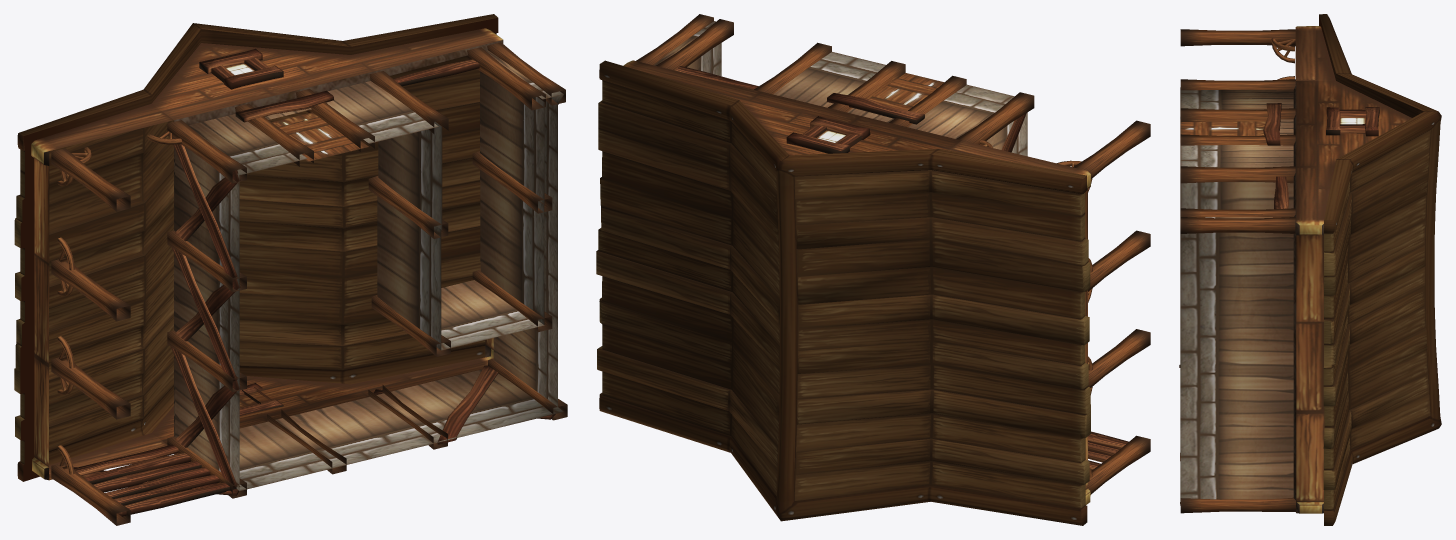
Rendered from Farm.fbx.
The picture shows the model from 3 angles, left to right: view 1: azimuth 30°, elevation 25°; view 2: azimuth 150°, elevation 25°; view 3: azimuth 270°, elevation 25°; orthographic projection. The views are drawn at different scales.
Visible parts, largest first — view 1: Farm_roof_top_01, Farm_01, Farm_02, Farm_Roof_01, Farm_Wall_02, Farm_Roof_03, Farm_Wall_01, Farm_Roof_02, Farm_wood_03, Farm_wood_02, Farm_wood_01; view 2: Farm_roof_top_01, Farm_01, Farm_Roof_01, Farm_Wall_02, Farm_Wall_01, Farm_Roof_02, Farm_Roof_03, Farm_wood_01, Farm_wood_03, Farm_wood_02; view 3: Farm_roof_top_01, Farm_02, Farm_01, Farm_Wall_02, Farm_Roof_02, Farm_Roof_01, Farm_wood_01, Farm_Roof_03.
Part boxes in pixels (left/top/right/bottom): Farm_roof_top_01: left=14, top=14, right=498, bottom=481; Farm_01: left=167, top=71, right=448, bottom=498; Farm_02: left=368, top=151, right=567, bottom=444; Farm_Roof_01: left=151, top=43, right=373, bottom=443; Farm_Wall_02: left=466, top=42, right=565, bottom=204; Farm_Roof_03: left=31, top=104, right=181, bottom=480; Farm_Wall_01: left=51, top=444, right=239, bottom=525; Farm_Roof_02: left=351, top=28, right=503, bottom=396; Farm_wood_03: left=51, top=336, right=130, bottom=419; Farm_wood_02: left=51, top=237, right=130, bottom=321; Farm_wood_01: left=51, top=147, right=130, bottom=211; Farm_roof_top_01: left=596, top=60, right=1090, bottom=525; Farm_01: left=754, top=42, right=1034, bottom=156; Farm_Roof_01: left=744, top=92, right=961, bottom=155; Farm_Wall_02: left=636, top=14, right=733, bottom=76; Farm_Wall_01: left=1088, top=431, right=1150, bottom=494; Farm_Roof_02: left=623, top=60, right=761, bottom=104; Farm_Roof_03: left=948, top=139, right=1090, bottom=504; Farm_wood_01: left=1057, top=120, right=1150, bottom=192; Farm_wood_03: left=1088, top=329, right=1150, bottom=394; Farm_wood_02: left=1088, top=230, right=1150, bottom=302; Farm_roof_top_01: left=1319, top=14, right=1441, bottom=525; Farm_02: left=1180, top=310, right=1295, bottom=513; Farm_01: left=1180, top=79, right=1295, bottom=215; Farm_Wall_02: left=1180, top=208, right=1295, bottom=310; Farm_Roof_02: left=1274, top=167, right=1334, bottom=513; Farm_Roof_01: left=1293, top=81, right=1411, bottom=167; Farm_wood_01: left=1180, top=29, right=1295, bottom=63; Farm_Roof_03: left=1277, top=26, right=1335, bottom=80.
Size of the model in its own units: 12.72 by 8.98 by 6.74.
